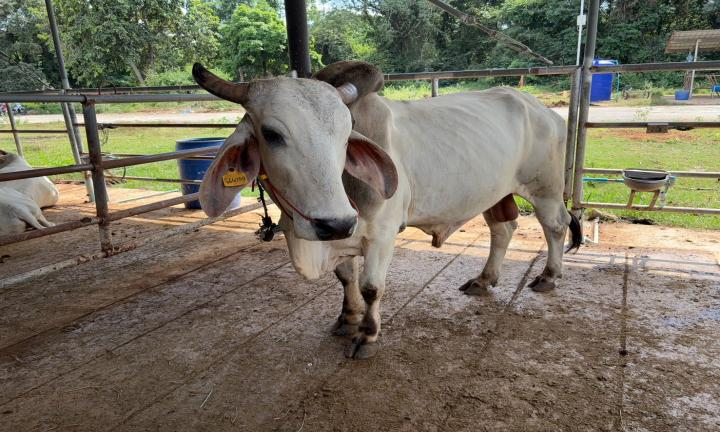Brahman: (193, 61, 581, 358)
